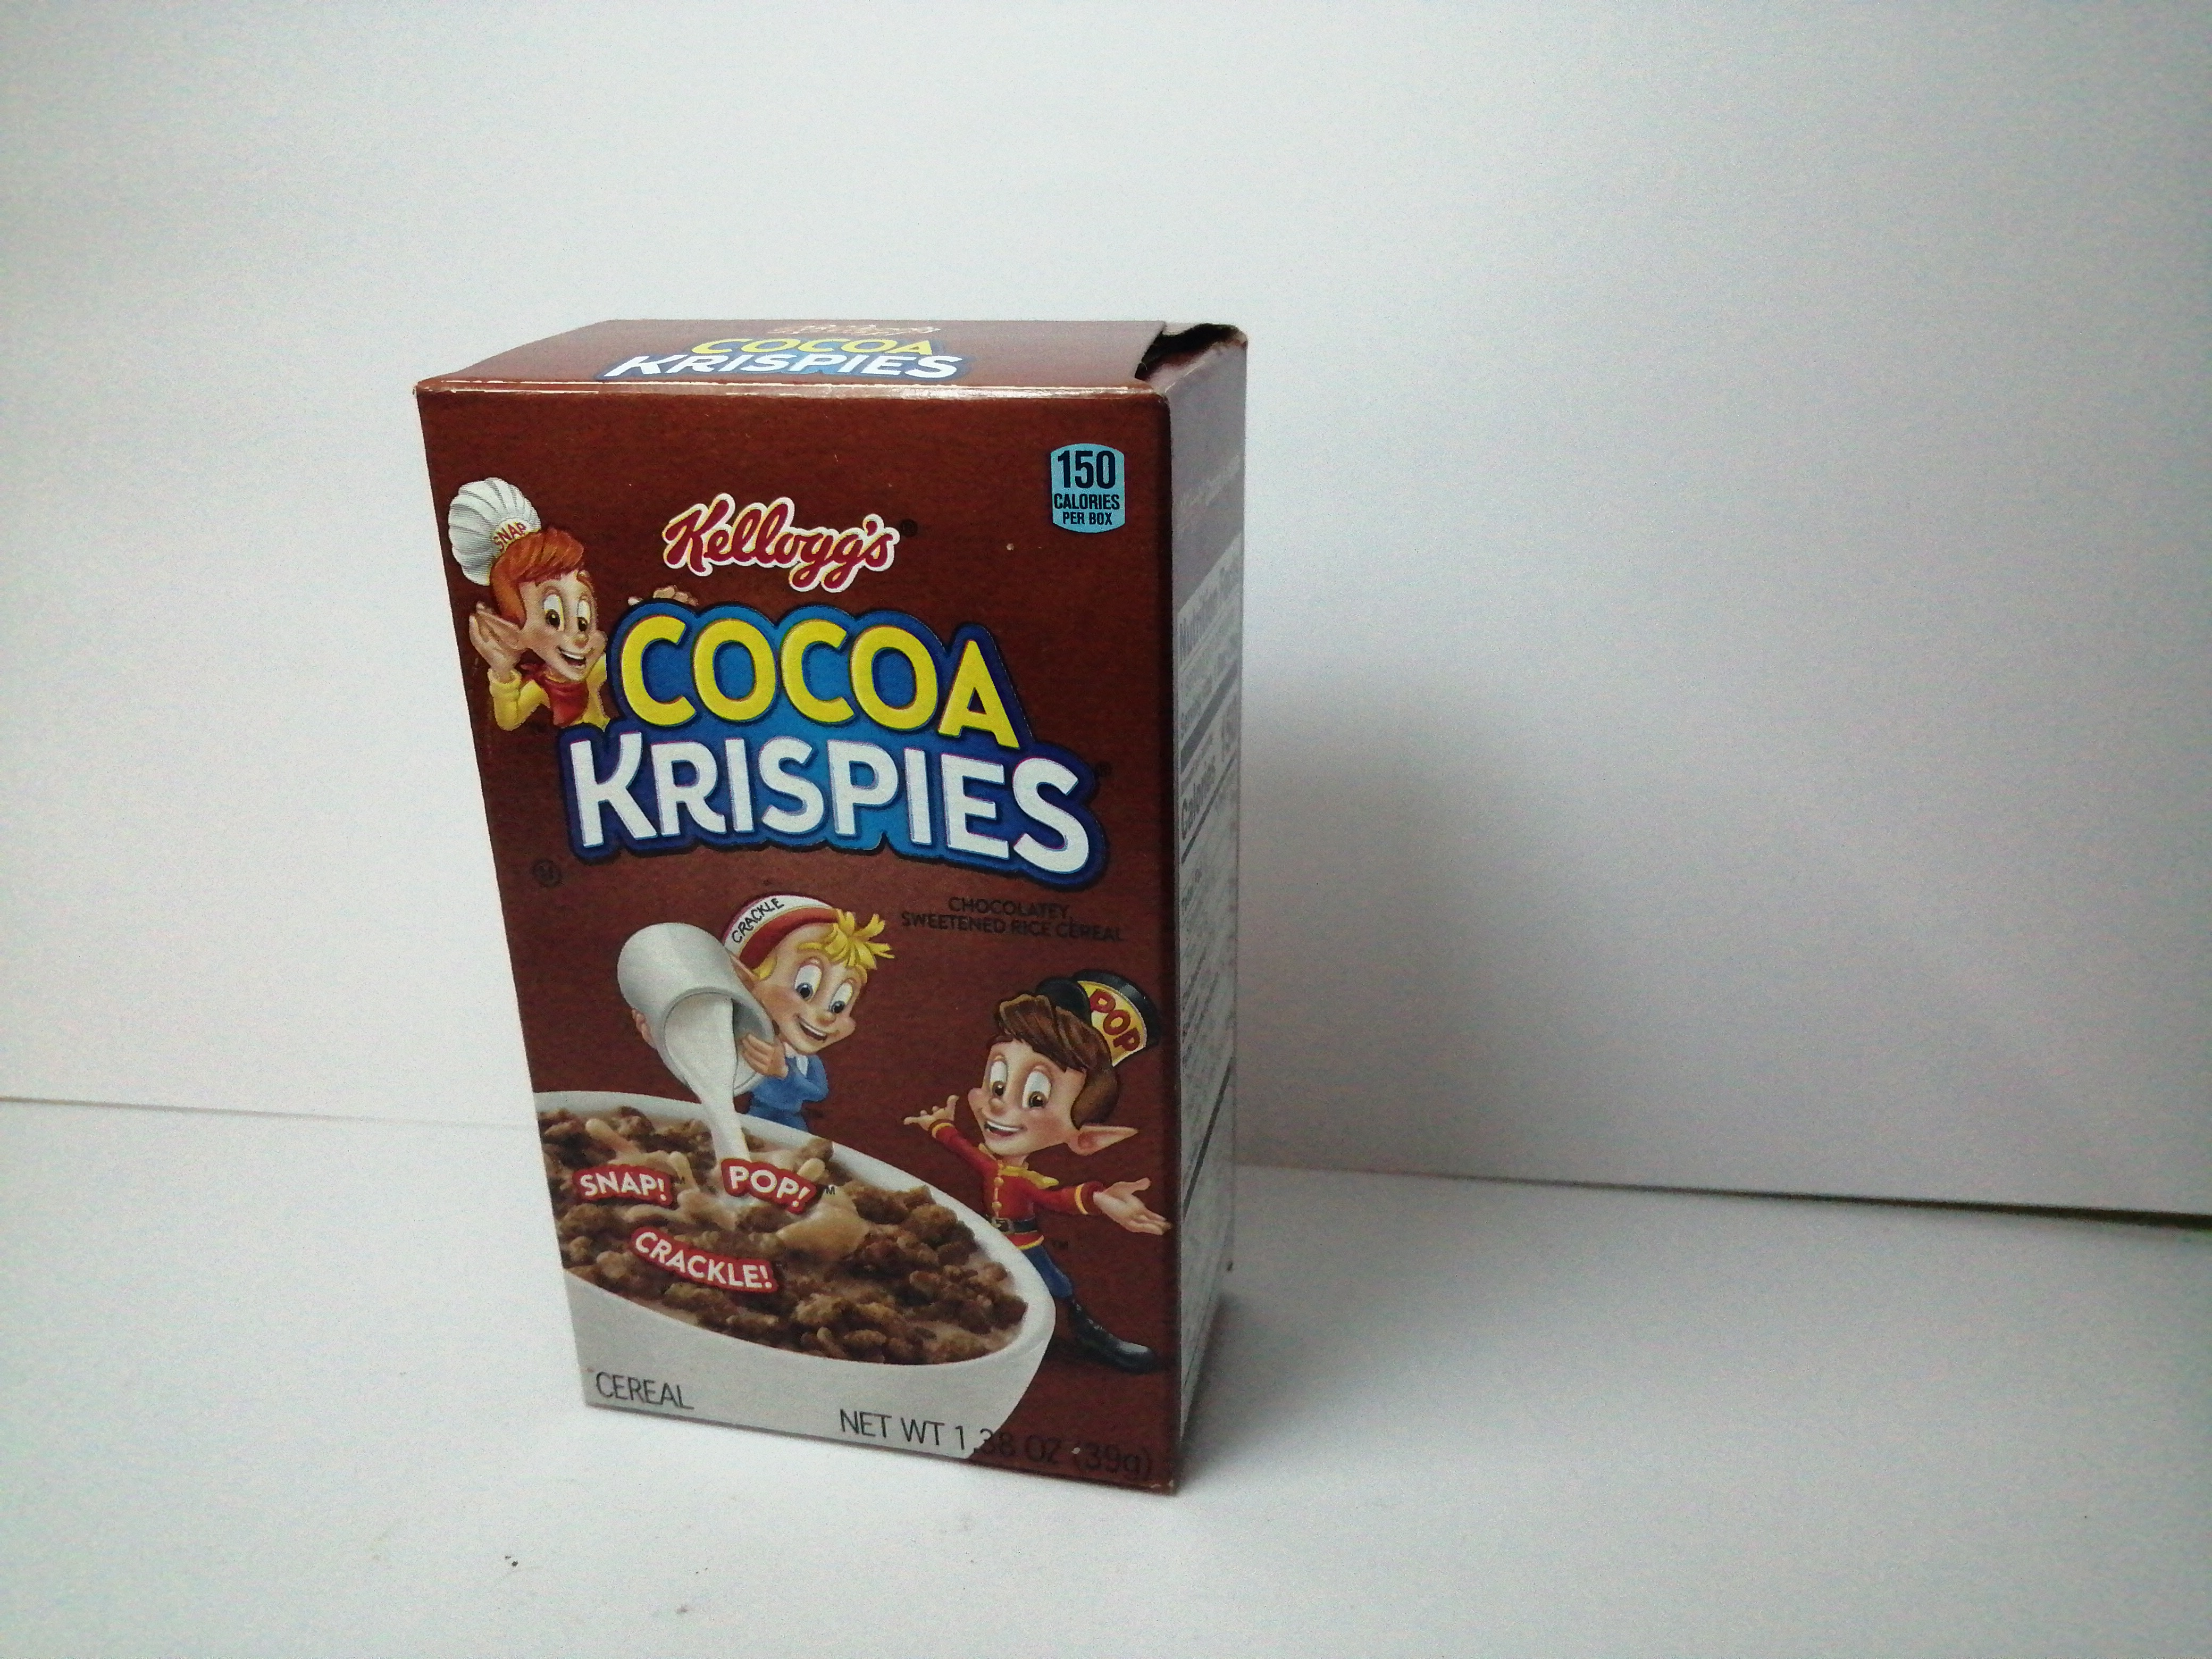cereal chocolate: (408, 298, 1287, 1507)
